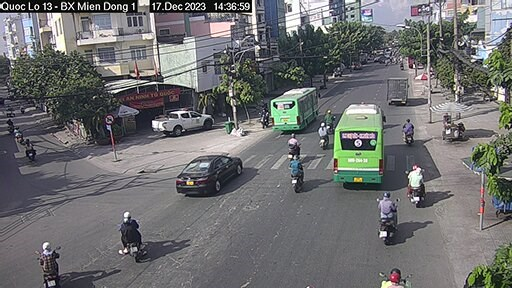bus: (334, 101, 387, 185), (275, 85, 319, 134)
car: (181, 156, 244, 189), (154, 110, 212, 136)
motorbike: (119, 209, 145, 258), (38, 242, 66, 281), (288, 163, 313, 198), (374, 197, 396, 236), (401, 117, 422, 148), (407, 172, 425, 203), (314, 127, 334, 152), (285, 133, 299, 159)
truck: (385, 76, 414, 108)
